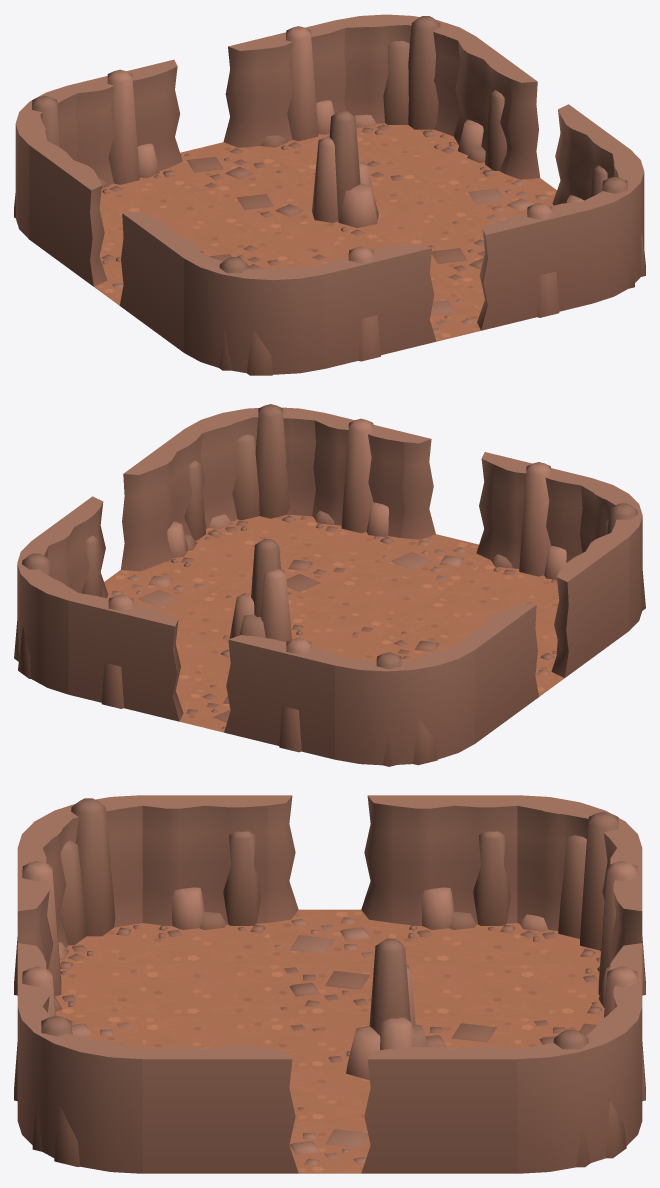
The model's file is room-large.obj.
3 views of the same model, one above another, from view 1: azimuth 30°, elevation 25°; view 2: azimuth 150°, elevation 25°; view 3: azimuth 270°, elevation 25° (orthographic). The views are drawn at different scales.
Visible parts, largest first — view 1: room-large; view 2: room-large; view 3: room-large.
Boxes of the visible parts, <box> form: room-large: <box>14,14,645,375</box>; room-large: <box>14,404,645,766</box>; room-large: <box>14,795,645,1173</box>.
Size of the model in its own units: 20 by 4.4 by 20.23.
Materials: 1 (1 with a texture image).
